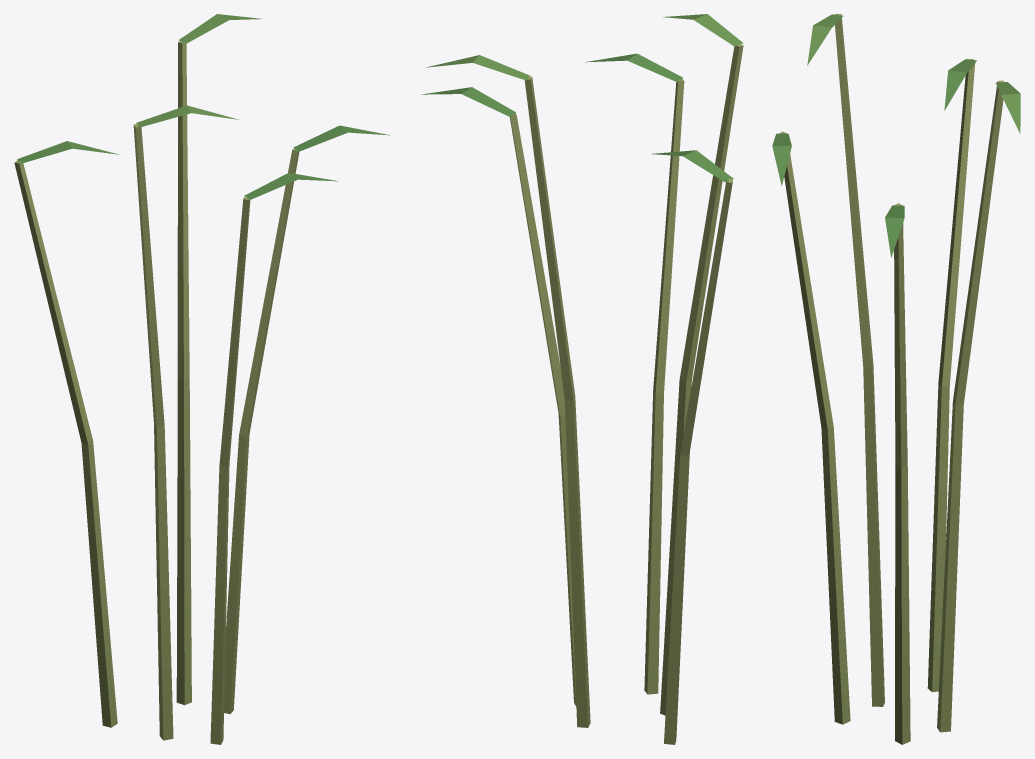
Rendered from bamboo_lod1.glb.
3 views of the same model, side by side, from view 1: azimuth 30°, elevation 25°; view 2: azimuth 150°, elevation 25°; view 3: azimuth 270°, elevation 25° (orthographic). The views are drawn at different scales.
Visible parts, largest first — view 1: bamboo_lod1; view 2: bamboo_lod1; view 3: bamboo_lod1.
Part boxes in pixels (left/top/right/bottom): bamboo_lod1: left=14, top=14, right=389, bottom=744; bamboo_lod1: left=421, top=14, right=743, bottom=744; bamboo_lod1: left=772, top=14, right=1020, bottom=744.
Bounding box in the file's own units: 3.6 × 6.61 × 2.2.
